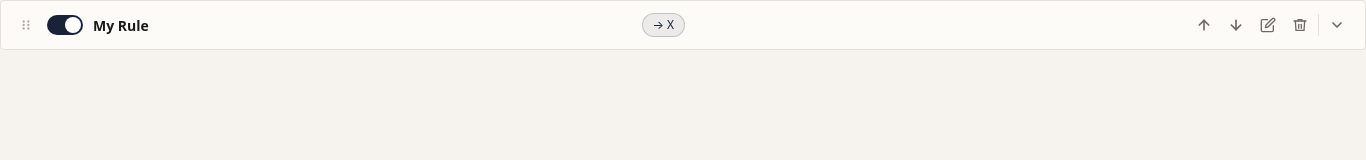
Scenario: RuleCard › expand toggle shows body and hides inline pills
Click the button titled "Expand" at x=1337, y=25, box [1323,11,1351,39]
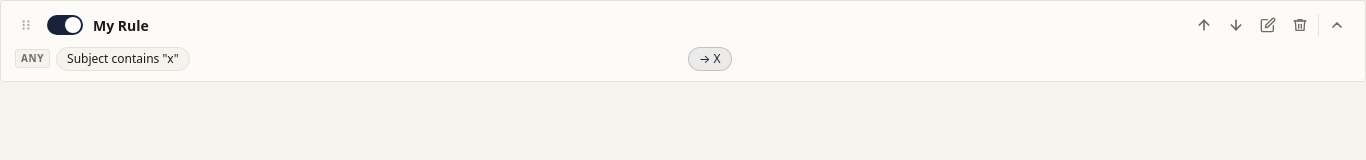
Result: the element with class "rule-card-body" is shown at [15,47,732,71]
Result: the element with class "rule-card-inline-actions" is gone
Click the button titled "Collapse" at x=1337, y=25, box [1323,11,1351,39]
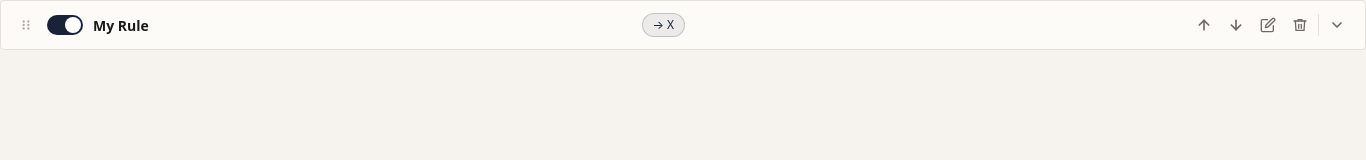
Result: the element with class "rule-card-body" is gone
